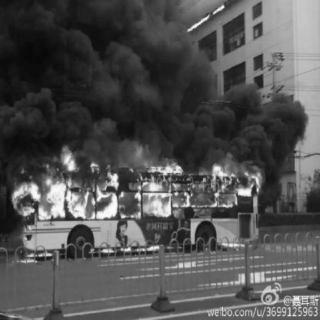Smoke: (2, 2, 290, 174)
